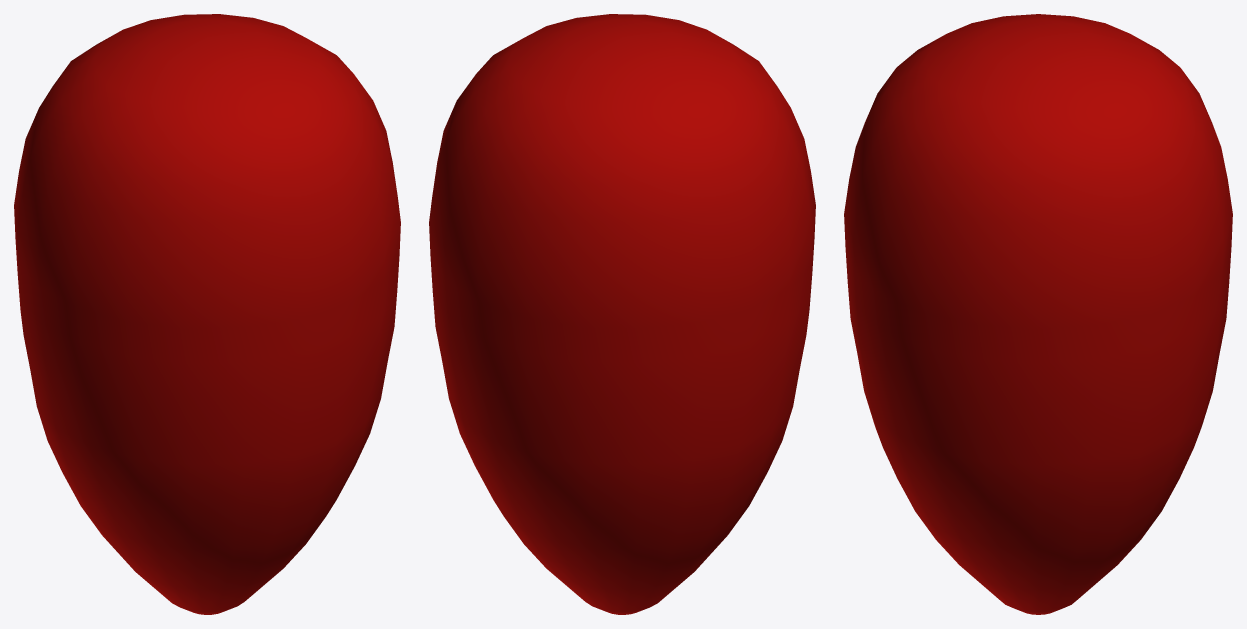
Rendered from balloon.fbx.
3 renders of one model, left to right at view 1: azimuth 30°, elevation 25°; view 2: azimuth 150°, elevation 25°; view 3: azimuth 270°, elevation 25°, orthographic.
Visible parts, largest first — view 1: pSphere1; view 2: pSphere1; view 3: pSphere1.
Boxes of the visible parts, <box> form: pSphere1: <box>14,14,400,614</box>; pSphere1: <box>429,14,815,614</box>; pSphere1: <box>844,14,1232,614</box>.
Size of the model in its own units: 2.6 by 4.22 by 2.6.
